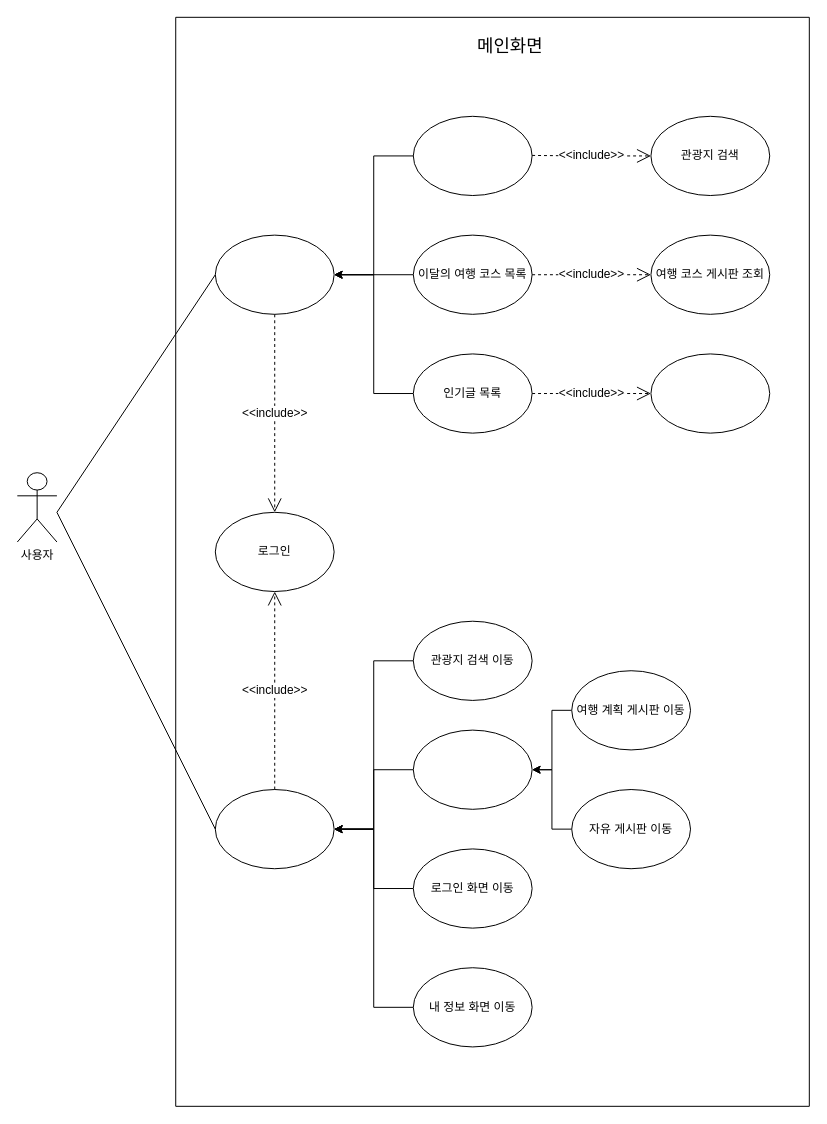
Image size: 827x1124. Some labels were removed from this diagram. Here are the shapes that lost their labels. From the top down, the centre of each, then its label:
At (x=472, y=155): "이달의 관광지 목록".
At (x=274, y=274): "목록 확인".
At (x=710, y=393): "자유 게시판 조회".
At (x=472, y=769): "게시판 이동".
At (x=274, y=829): "페이지 이동".
